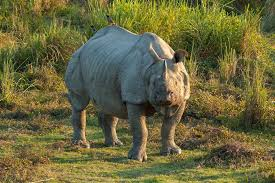Rhinoceros: (58, 21, 202, 167)
